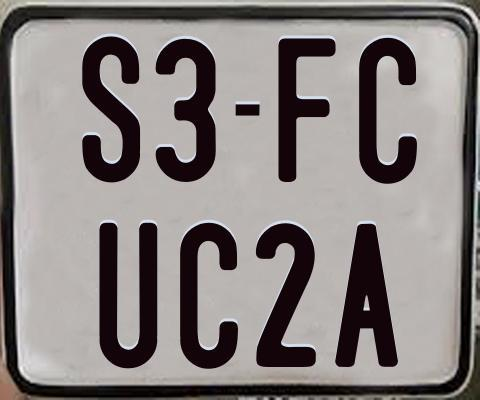2: (256, 220, 317, 364)
3: (152, 39, 215, 188)
A: (334, 224, 401, 367)
C: (356, 37, 419, 189), (180, 221, 243, 368)
F: (278, 35, 339, 182)
S: (79, 35, 138, 188)
U: (98, 220, 160, 369)
